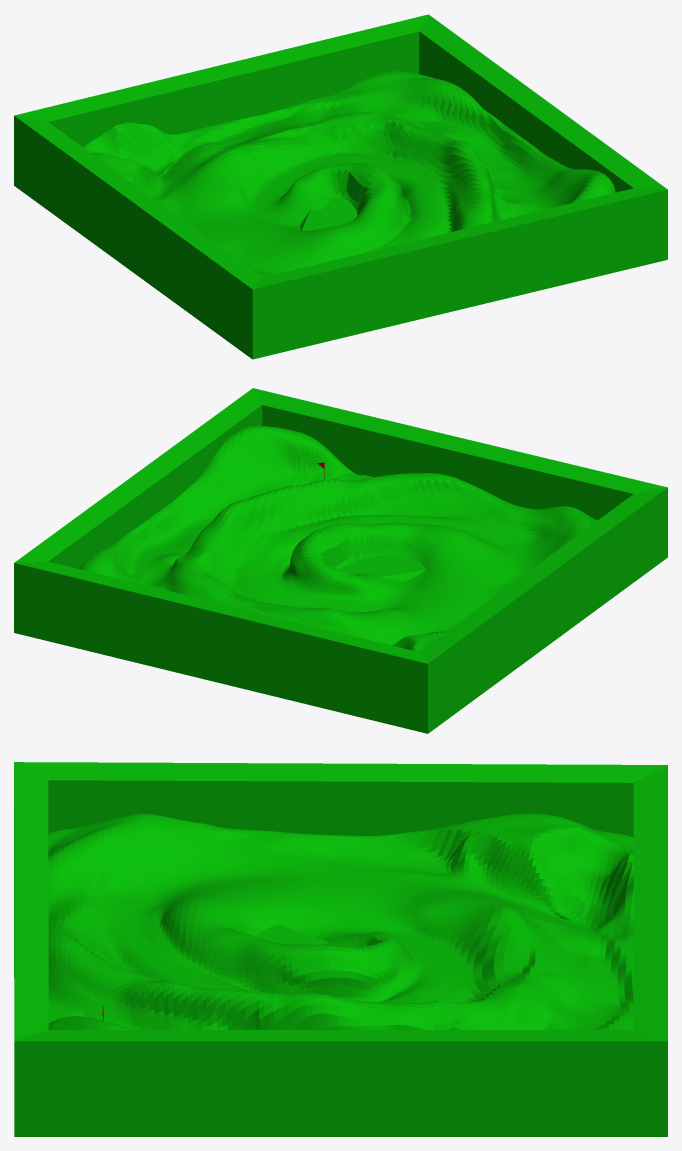
The model's file is level_9.glb.
3 views of the same model, one above another, from view 1: azimuth 30°, elevation 25°; view 2: azimuth 150°, elevation 25°; view 3: azimuth 270°, elevation 25° (orthographic). The views are drawn at different scales.
Visible parts, largest first — view 1: green; view 2: green; view 3: green.
Part boxes in pixels (bbox=[...]): green: bbox=[14, 14, 667, 359]; green: bbox=[14, 388, 667, 733]; green: bbox=[14, 762, 667, 1136].
Bounding box in the file's own units: 14.35 × 2.41 × 14.33.
